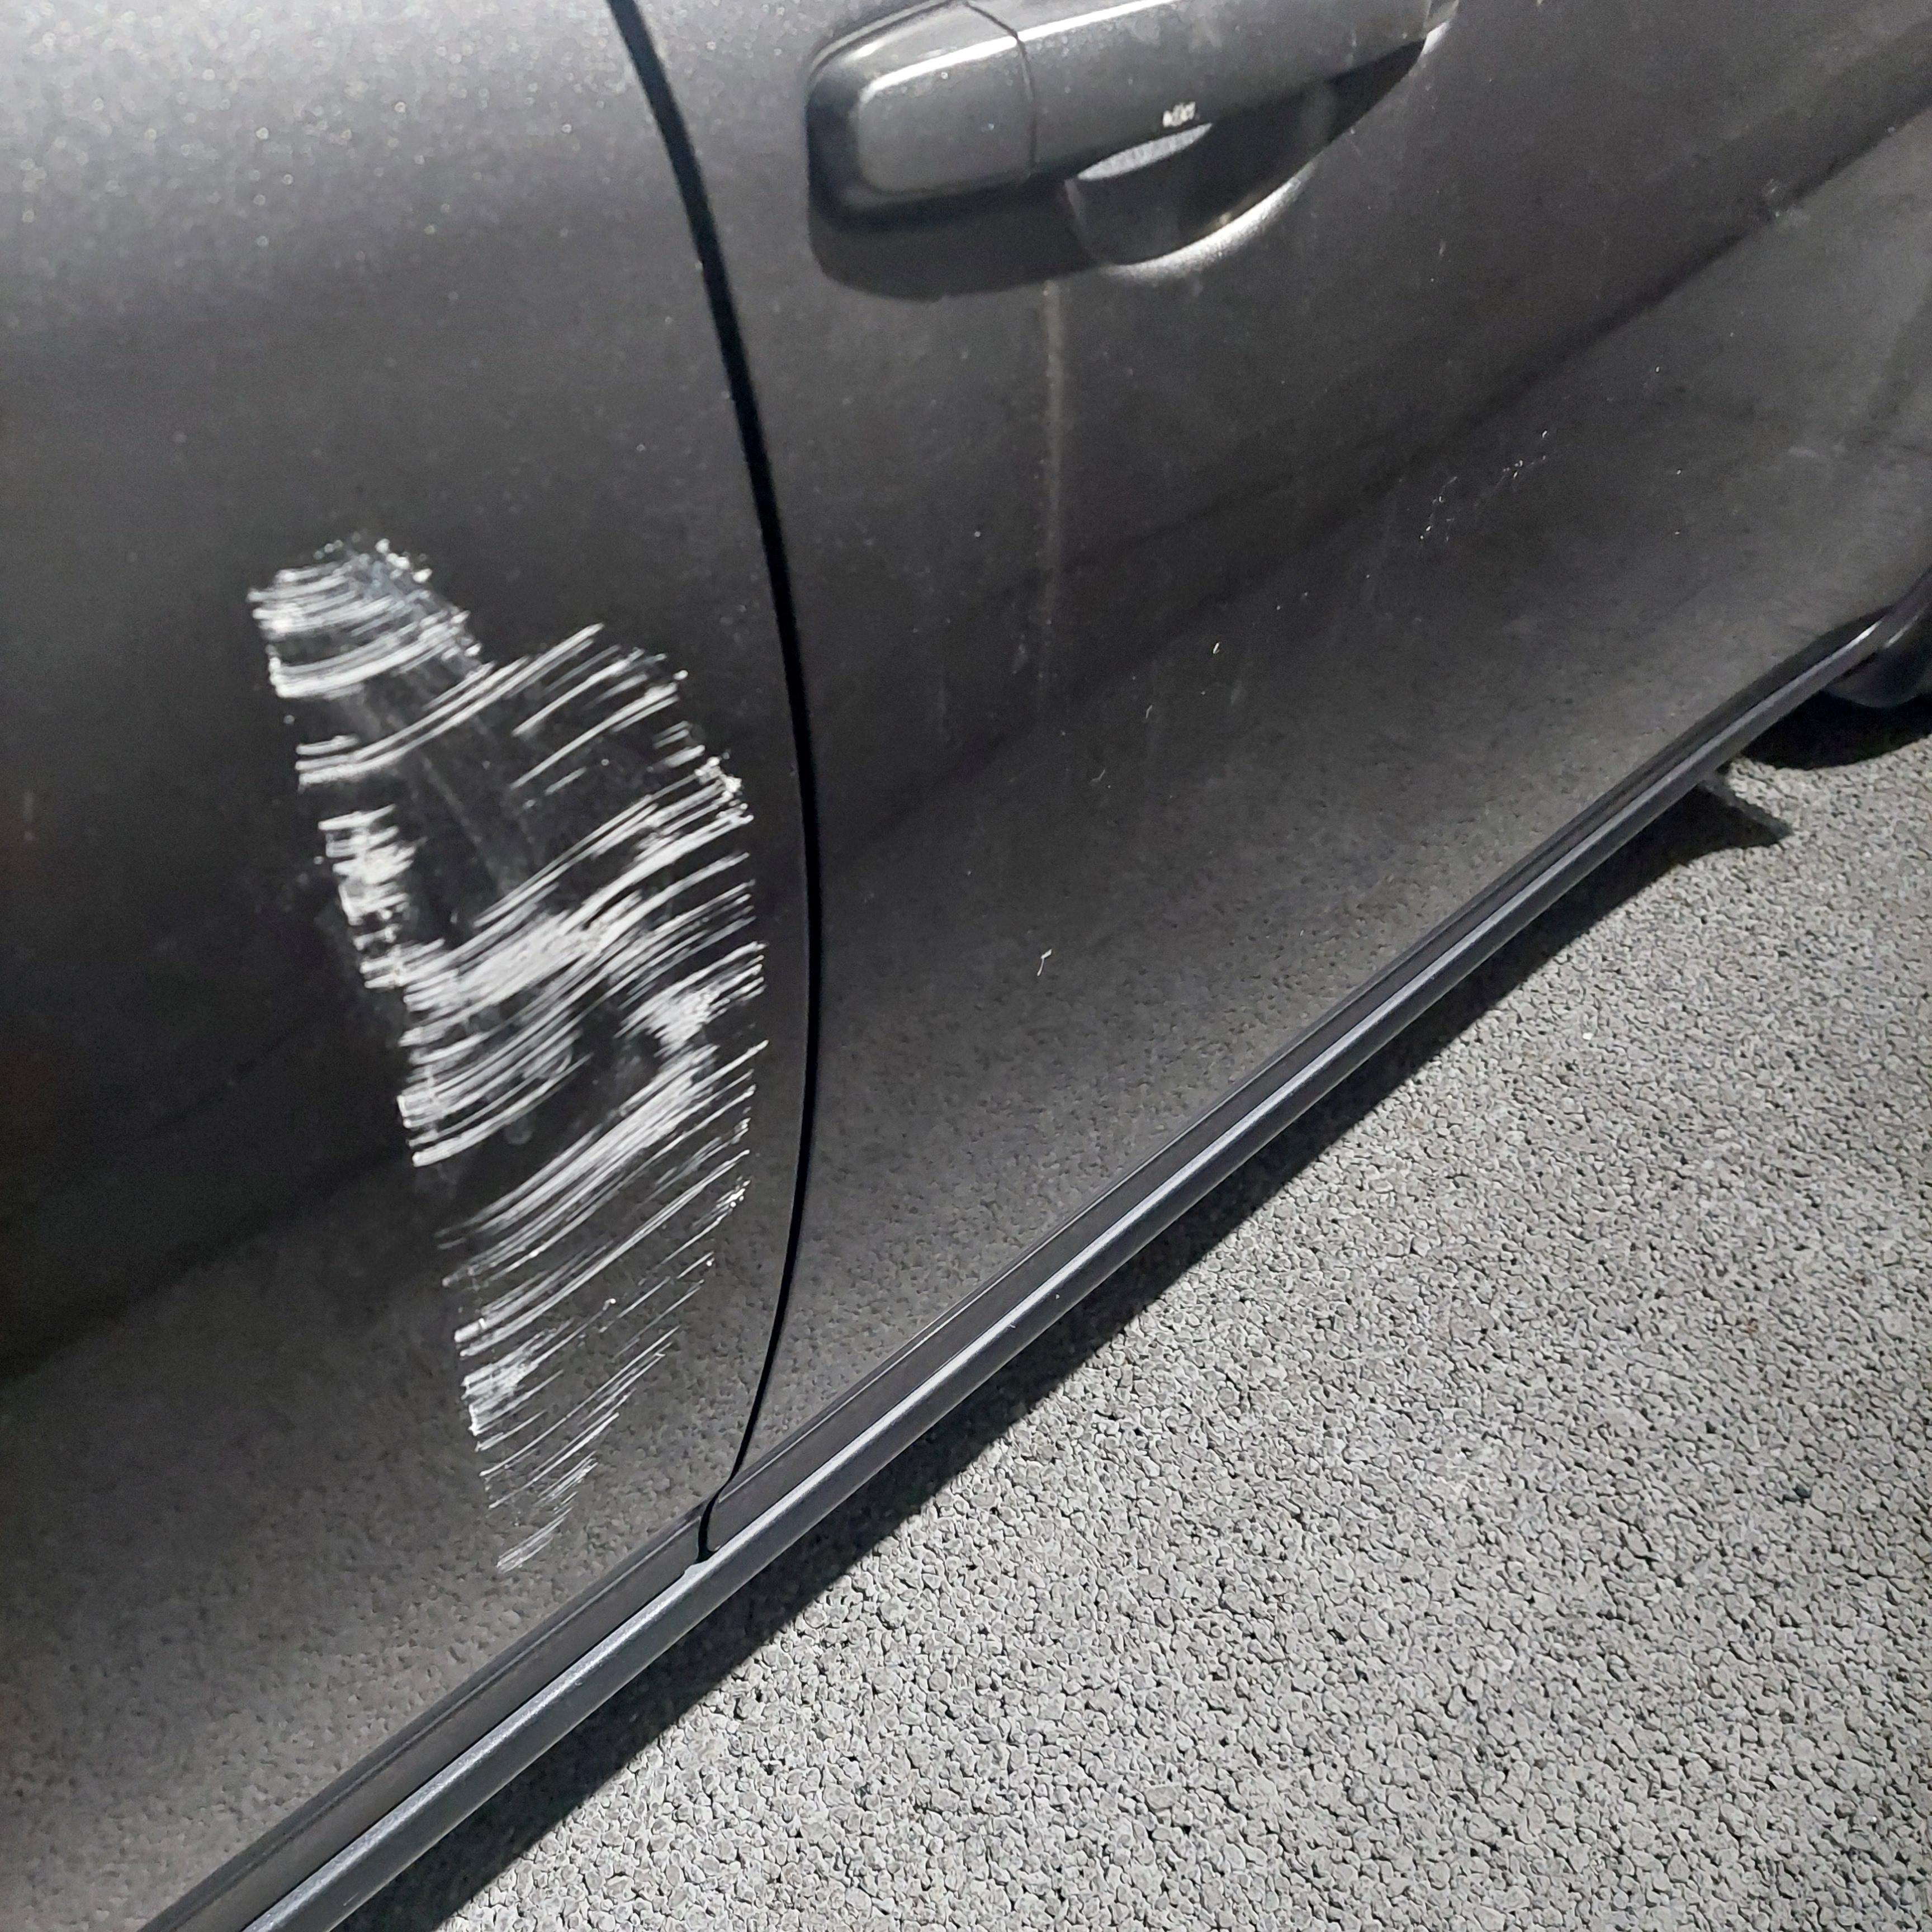scratch: (218, 476, 805, 1621)
